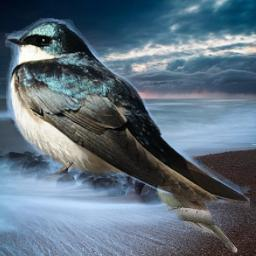Cuckoo: (153, 171, 238, 253)
Swallow: (5, 18, 250, 209)
